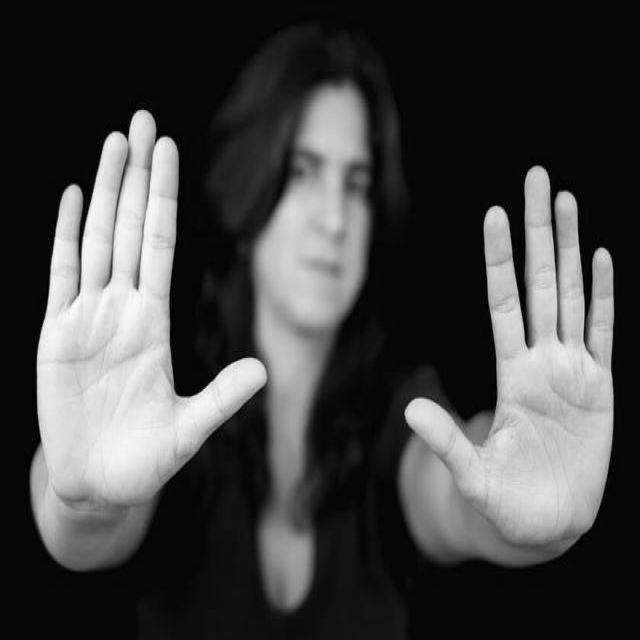stop: (32, 103, 270, 517), (401, 158, 620, 559)
